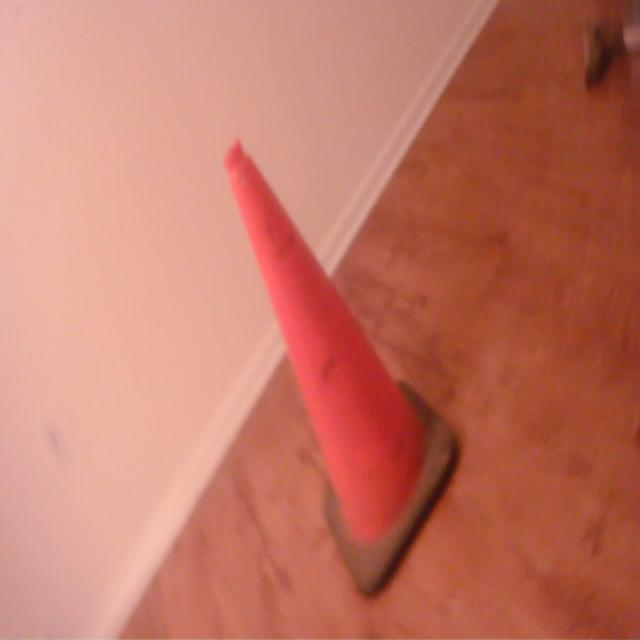traffic cone: (221, 131, 462, 602)
